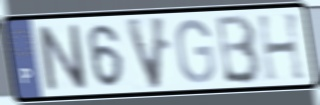6: (85, 21, 126, 90)
B: (215, 12, 264, 86)
G: (173, 16, 218, 86)
H: (255, 10, 309, 84)
N: (33, 22, 91, 94)
V: (122, 14, 169, 93)
